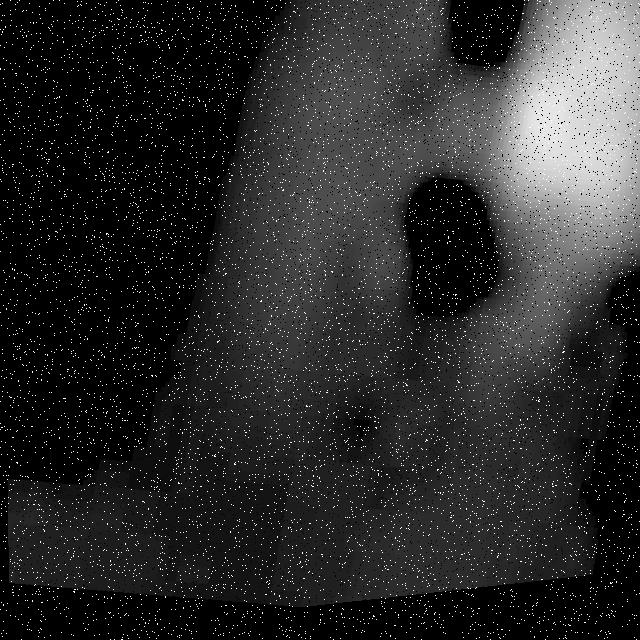person: (455, 1, 640, 390)
